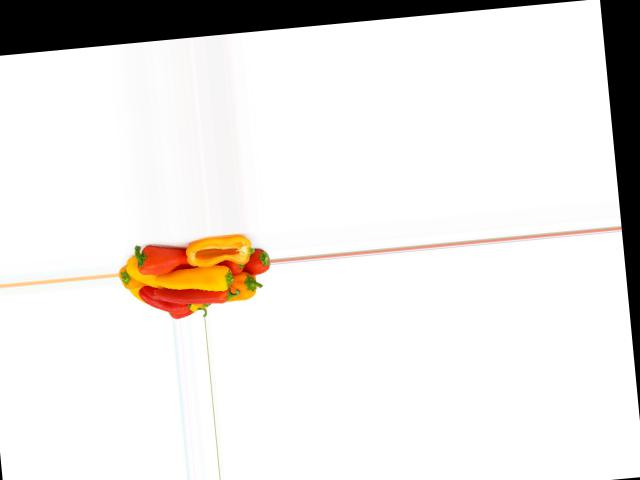bell_pepper: (226, 248, 272, 282)
